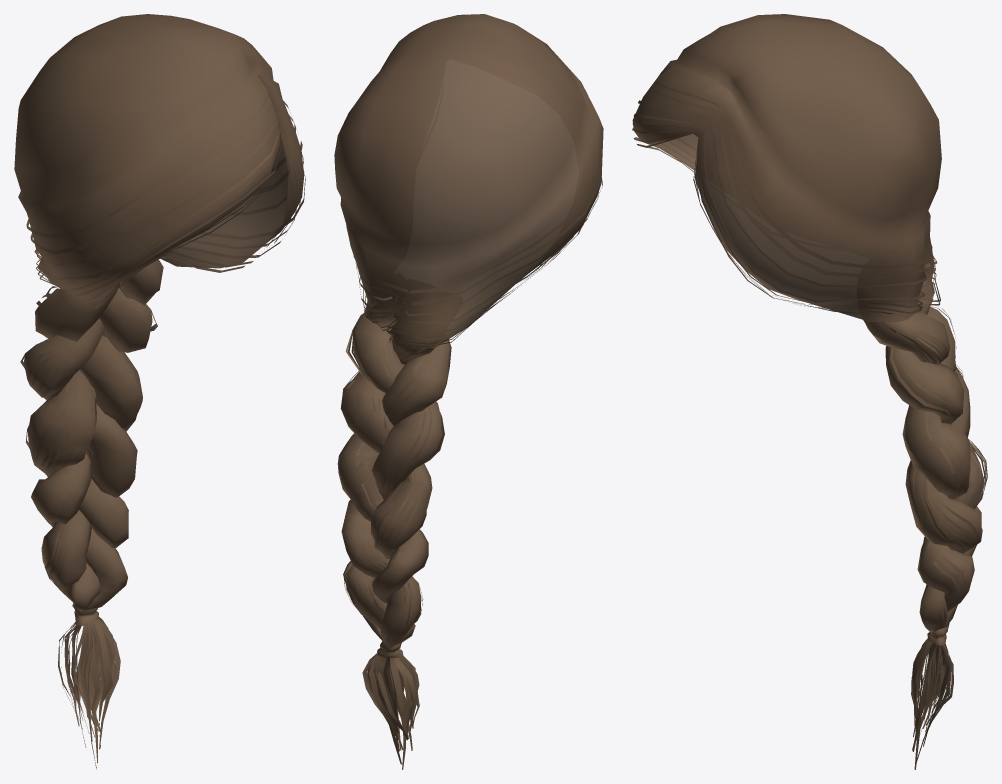
The model's file is braid01.glb.
3 renders of one model, left to right at view 1: azimuth 30°, elevation 25°; view 2: azimuth 150°, elevation 25°; view 3: azimuth 270°, elevation 25°, orthographic. The views are drawn at different scales.
Visible parts, largest first — view 1: braid01; view 2: braid01; view 3: braid01.
Part boxes in pixels (x1=…): braid01: x1=14, y1=14, x2=305, y2=769; braid01: x1=334, y1=14, x2=603, y2=769; braid01: x1=632, y1=14, x2=987, y2=769.
Size of the model in its own units: 0.1795 by 0.5678 by 0.2454.
